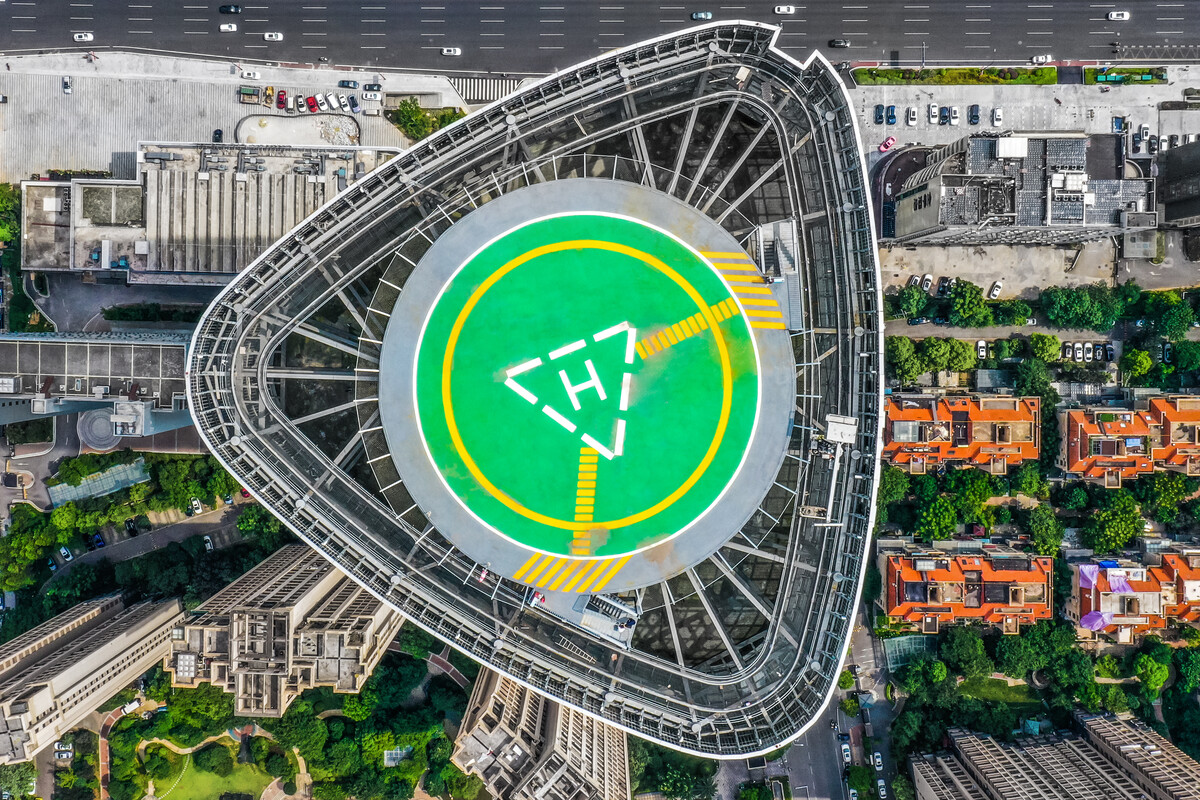Apron: (440, 238, 731, 533)
